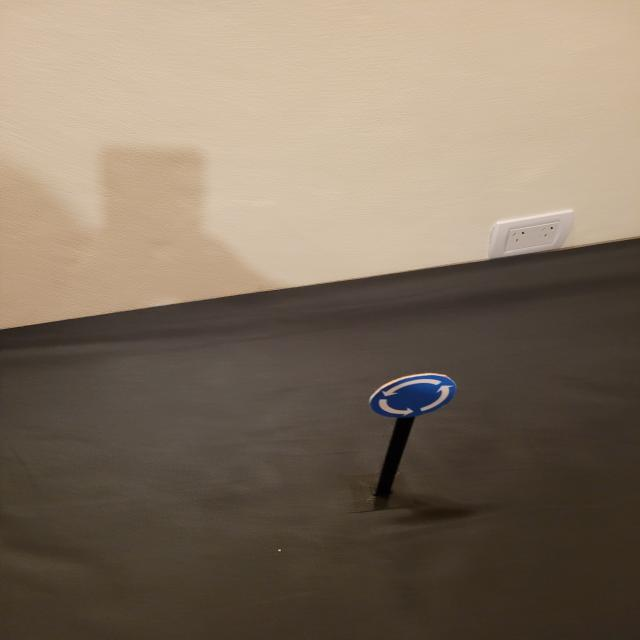round_about: (368, 372, 457, 418)
